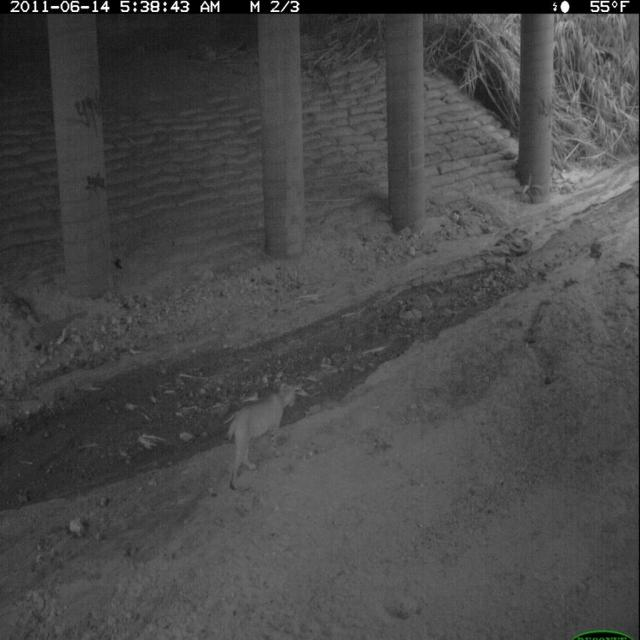bobcat: (221, 377, 302, 495)
